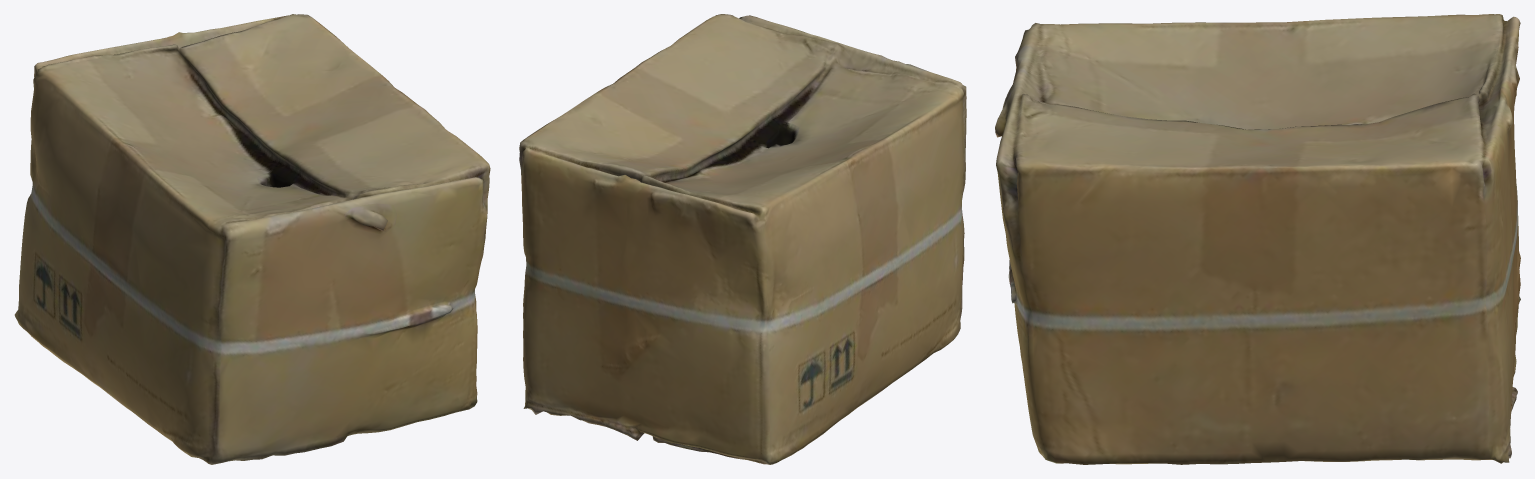
The model's file is cardboard_box_01.glb.
The picture shows the model from 3 angles, left to right: view 1: azimuth 30°, elevation 25°; view 2: azimuth 150°, elevation 25°; view 3: azimuth 270°, elevation 25°; orthographic projection. The views are drawn at different scales.
Visible parts, largest first — view 1: cardboard_box_01; view 2: cardboard_box_01; view 3: cardboard_box_01.
Boxes of the visible parts, <box> form: cardboard_box_01: <box>14,14,490,464</box>; cardboard_box_01: <box>519,14,966,464</box>; cardboard_box_01: <box>995,14,1520,464</box>.
Bounding box in the file's own units: 0.387 × 0.3418 × 0.5159.
1 material, 1 textured.
